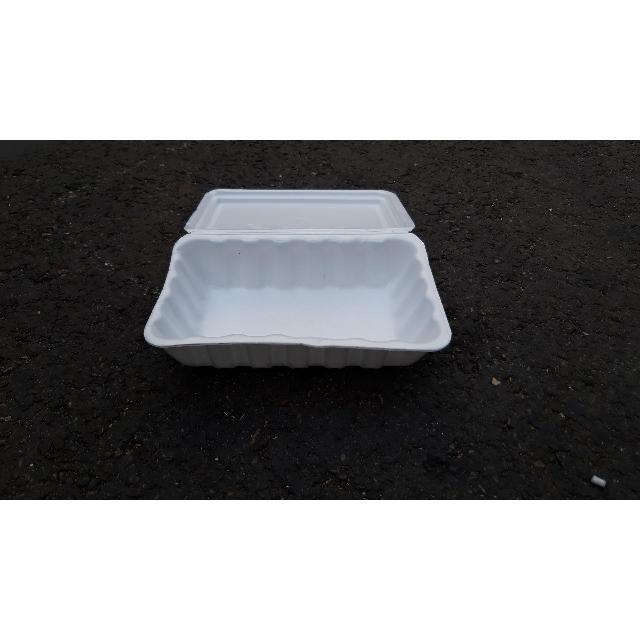Plastico descartable: (143, 190, 453, 372)
